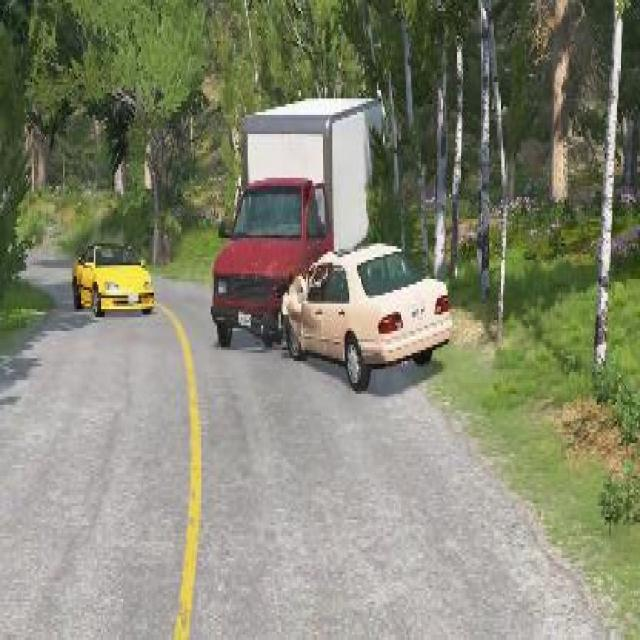accident: (207, 74, 458, 391)
